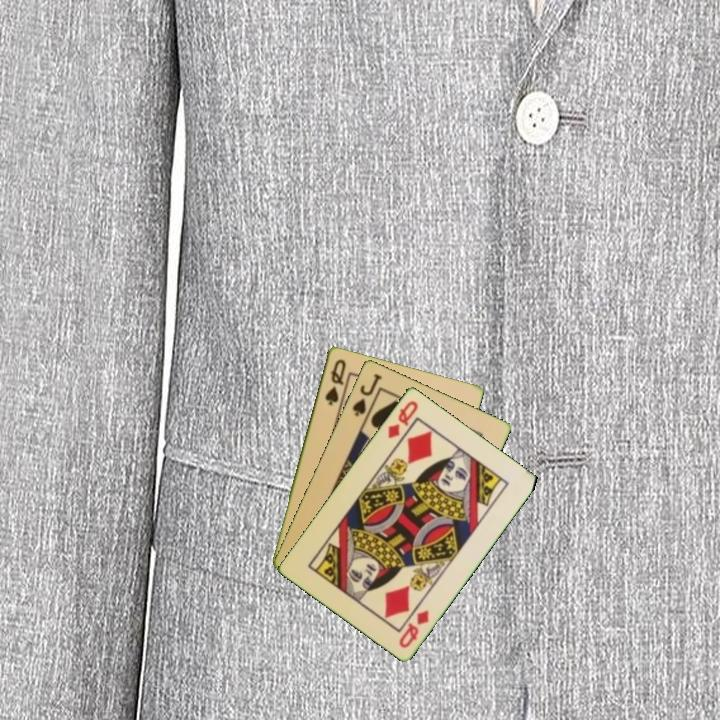Js: (348, 370, 385, 419)
Qd: (395, 606, 432, 651), (384, 397, 421, 441)
Qs: (321, 355, 349, 408)
